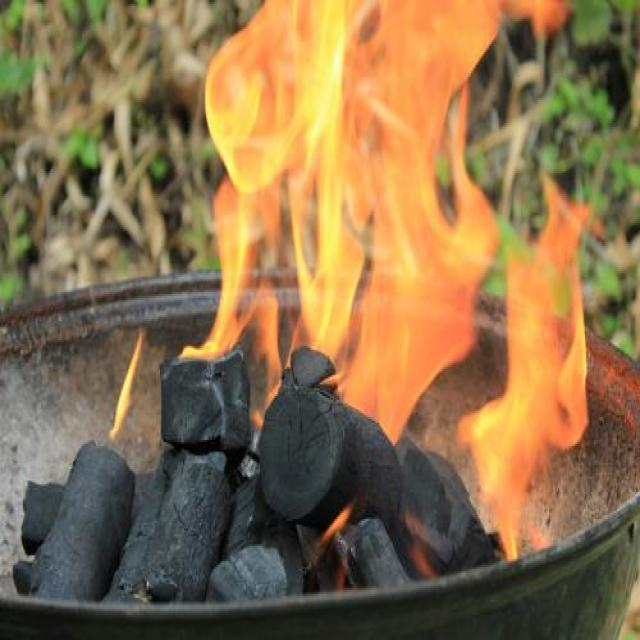Fire: (180, 0, 590, 563)
